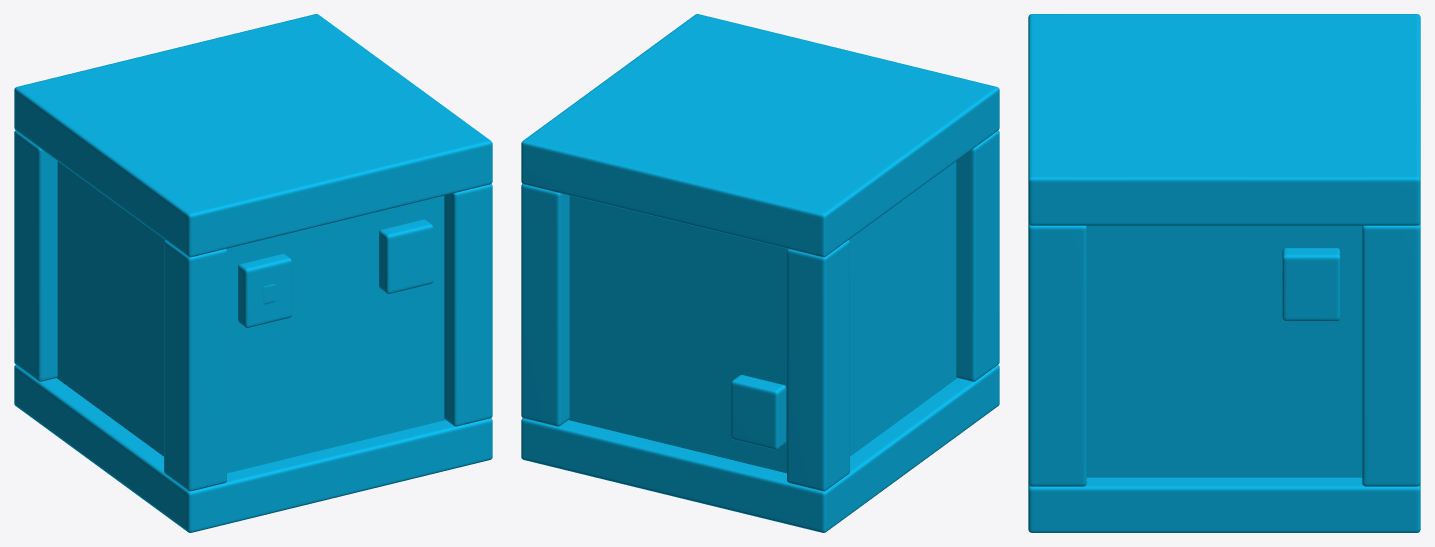
The model's file is SM_Clay_Body_01.fbx.
3 renders of one model, left to right at view 1: azimuth 30°, elevation 25°; view 2: azimuth 150°, elevation 25°; view 3: azimuth 270°, elevation 25°, orthographic. The views are drawn at different scales.
Parts seen in each view (by area): view 1: SM_Clay_Body_01; view 2: SM_Clay_Body_01; view 3: SM_Clay_Body_01.
Boxes of the visible parts, box(x1,y1,x2,y2) form: SM_Clay_Body_01: box(14, 14, 492, 532); SM_Clay_Body_01: box(521, 14, 999, 532); SM_Clay_Body_01: box(1028, 14, 1420, 532).
Bounding box in the file's own units: 2.5 × 2.5 × 2.5.
